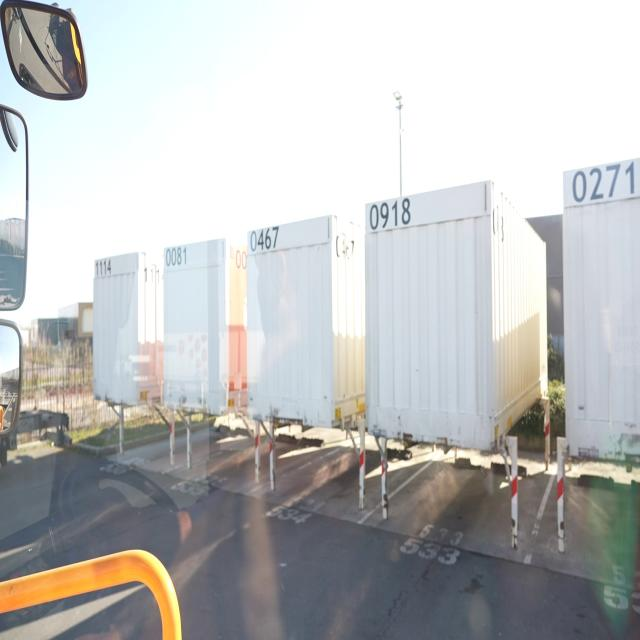Code: (567, 156, 639, 208), (364, 193, 411, 236), (246, 224, 279, 254), (164, 243, 188, 269), (93, 254, 113, 283)
